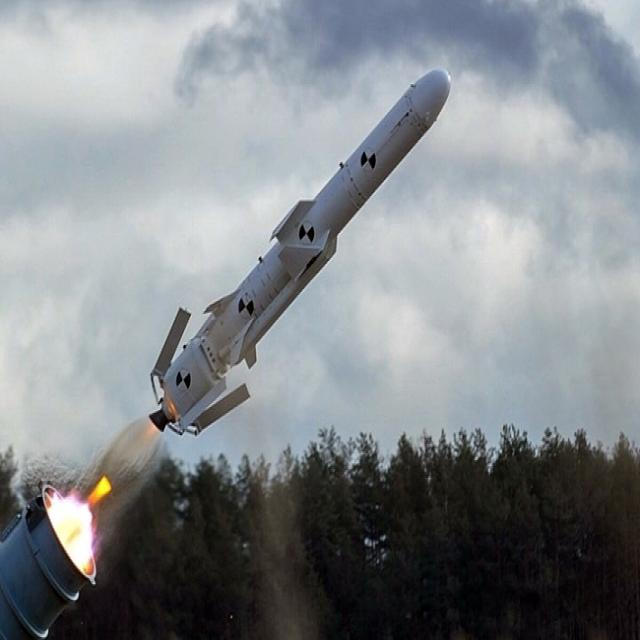Missile: (148, 46, 464, 439)
